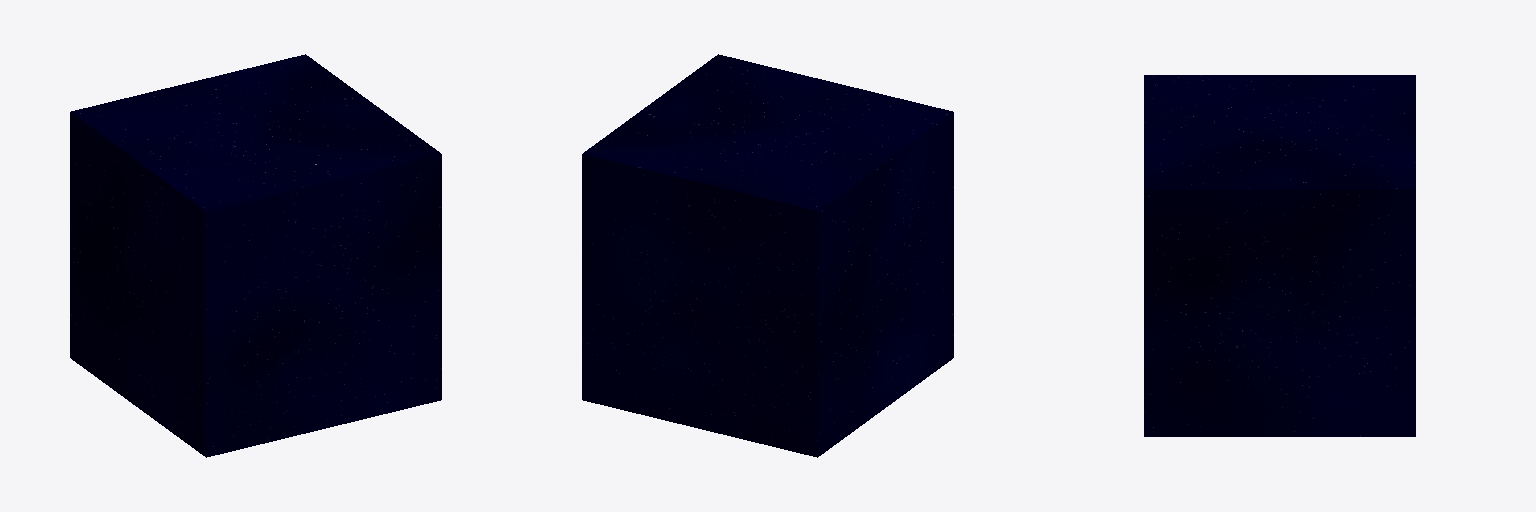
The picture shows the model from 3 angles: view 1: azimuth 30°, elevation 25°; view 2: azimuth 150°, elevation 25°; view 3: azimuth 270°, elevation 25°; orthographic projection.
Parts seen in each view (by area): view 1: Cube; view 2: Cube; view 3: Cube.
Part boxes in pixels (x1,y1,x2,y2): Cube: (70,54,441,457); Cube: (582,54,953,457); Cube: (1144,75,1415,436).
Bounding box in the file's own units: 2 × 2 × 2.
Materials: 1 (1 with a texture image).